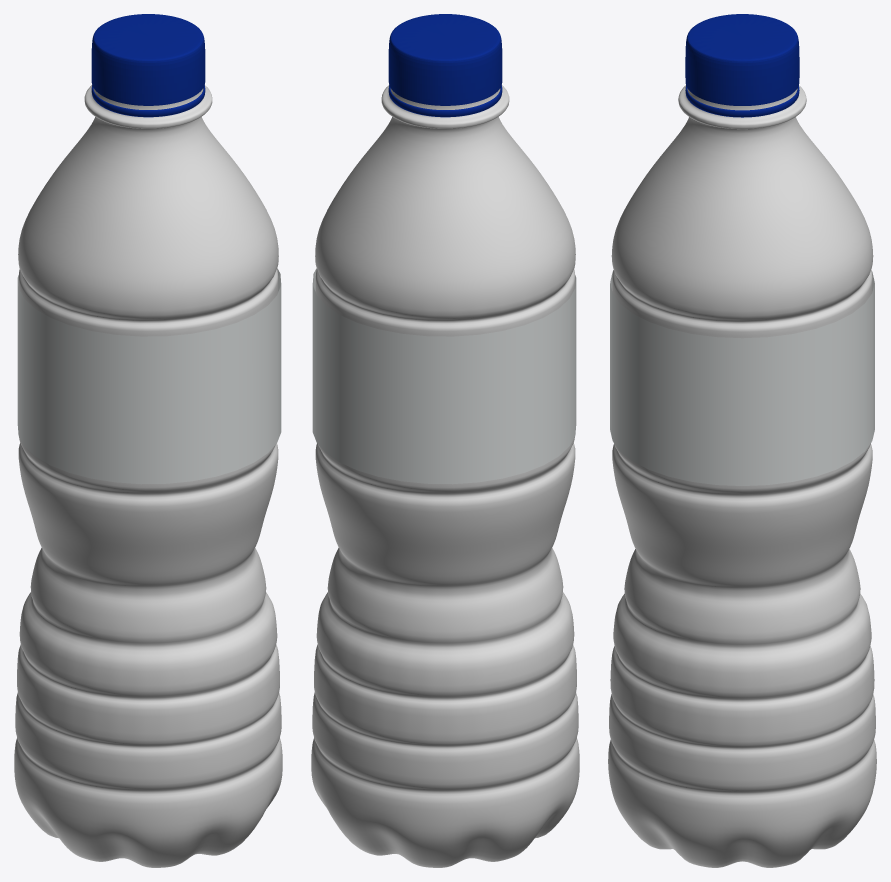
The model's file is plasticBottle.fbx.
The picture shows the model from 3 angles, left to right: view 1: azimuth 30°, elevation 25°; view 2: azimuth 150°, elevation 25°; view 3: azimuth 270°, elevation 25°; orthographic projection.
Parts seen in each view (by area): view 1: bottle, label, cap, cap2; view 2: bottle, label, cap, cap2; view 3: bottle, label, cap, cap2.
Part boxes in pixels (x1,y1,x2,y2): bottle: [14, 85, 282, 867]; label: [17, 268, 281, 484]; cap: [91, 14, 205, 105]; cap2: [91, 85, 205, 117]; bottle: [311, 85, 579, 867]; label: [312, 268, 576, 484]; cap: [388, 14, 502, 105]; cap2: [388, 85, 502, 117]; bottle: [608, 85, 876, 867]; label: [610, 271, 874, 485]; cap: [685, 14, 799, 105]; cap2: [685, 85, 799, 117].
Size of the model in its own units: 6.43 by 20.95 by 6.43.
